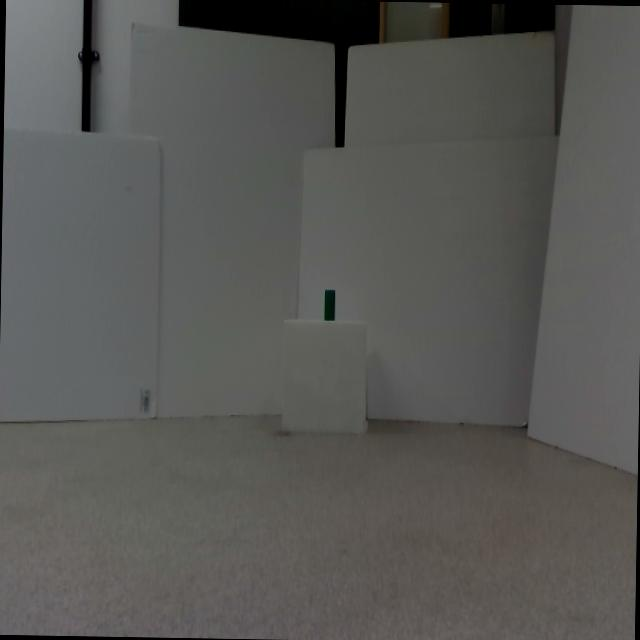green_cylinder: (324, 290, 335, 320)
